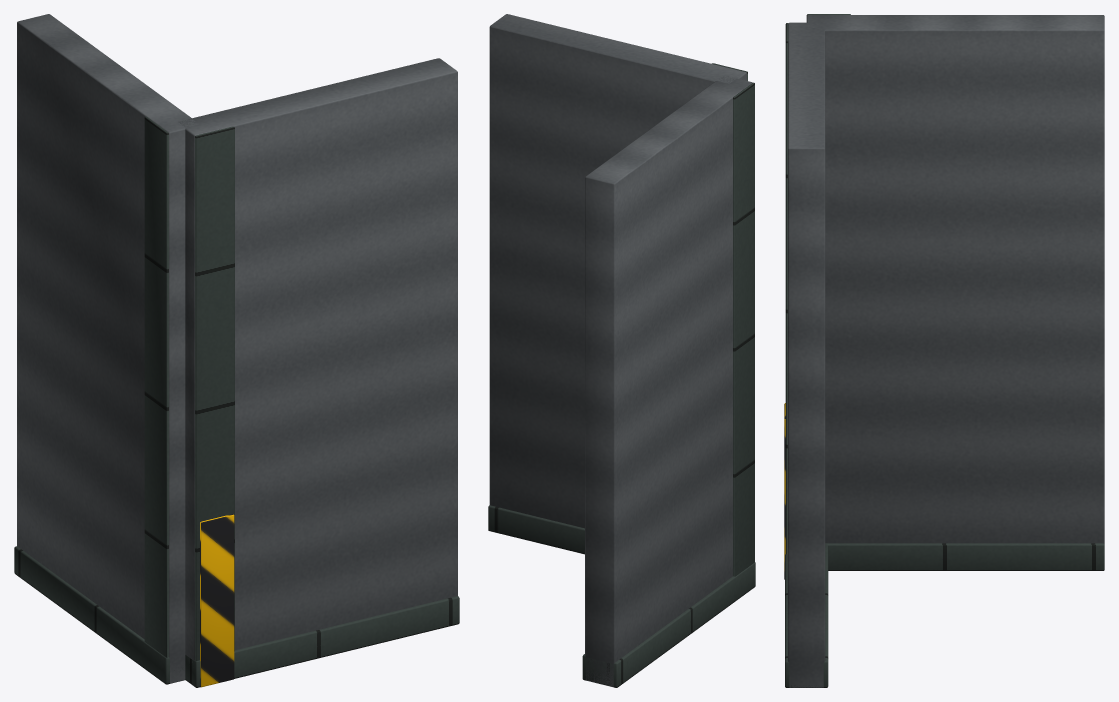
The model's file is WK_WALL_CORNER_OUT_A_01.glb.
The picture shows the model from 3 angles, left to right: view 1: azimuth 30°, elevation 25°; view 2: azimuth 150°, elevation 25°; view 3: azimuth 270°, elevation 25°; orthographic projection. The views are drawn at different scales.
Visible parts, largest first — view 1: WK_WALL_CORNER_OUT_A_01; view 2: WK_WALL_CORNER_OUT_A_01; view 3: WK_WALL_CORNER_OUT_A_01.
Part boxes in pixels (box(x1,y1,x2,y2)): WK_WALL_CORNER_OUT_A_01: box(14, 14, 459, 687); WK_WALL_CORNER_OUT_A_01: box(488, 14, 755, 687); WK_WALL_CORNER_OUT_A_01: box(784, 14, 1104, 687).
Bounding box in the file's own units: 2.14 × 4 × 2.15.
3 materials, 3 textured.
